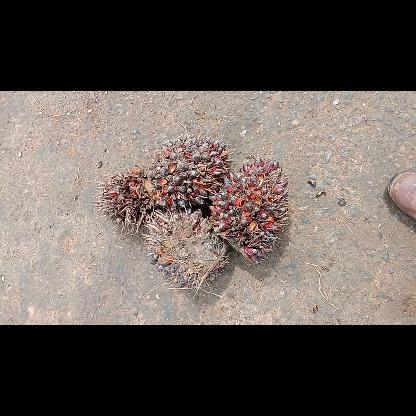TBS abnormal: (209, 158, 289, 264), (142, 208, 230, 292), (148, 132, 232, 209), (94, 169, 178, 233)
